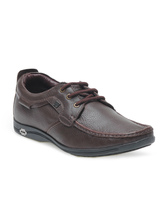shoes: (13, 68, 159, 158)
